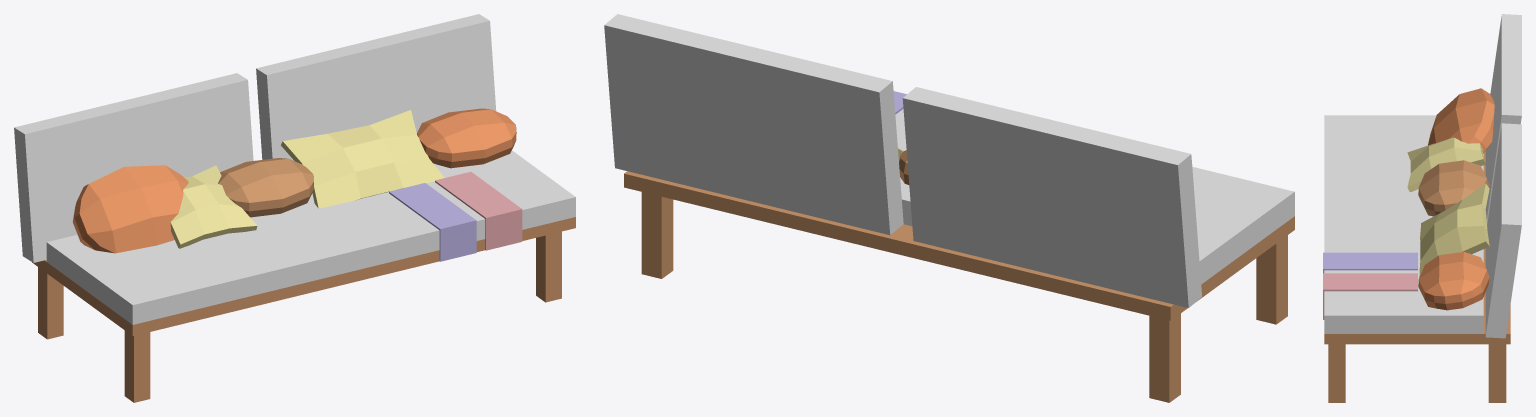
Rendered from Sillon.fbx.
3 renders of one model, left to right at view 1: azimuth 30°, elevation 25°; view 2: azimuth 150°, elevation 25°; view 3: azimuth 270°, elevation 25°, orthographic. The views are drawn at different scales.
Visible parts, largest first — view 1: couch.001, pillow.001, towel2.001; view 2: couch.001; view 3: couch.001, pillow.001, towel2.001.
Boxes of the visible parts, x1,y1,x2,y2 form: couch.001: [14, 14, 575, 402]; pillow.001: [73, 108, 516, 253]; towel2.001: [389, 171, 522, 261]; couch.001: [604, 14, 1294, 402]; couch.001: [1324, 14, 1521, 402]; pillow.001: [1407, 88, 1494, 310]; towel2.001: [1323, 252, 1417, 319].
Size of the model in its own units: 216 by 90.48 by 86.42.
